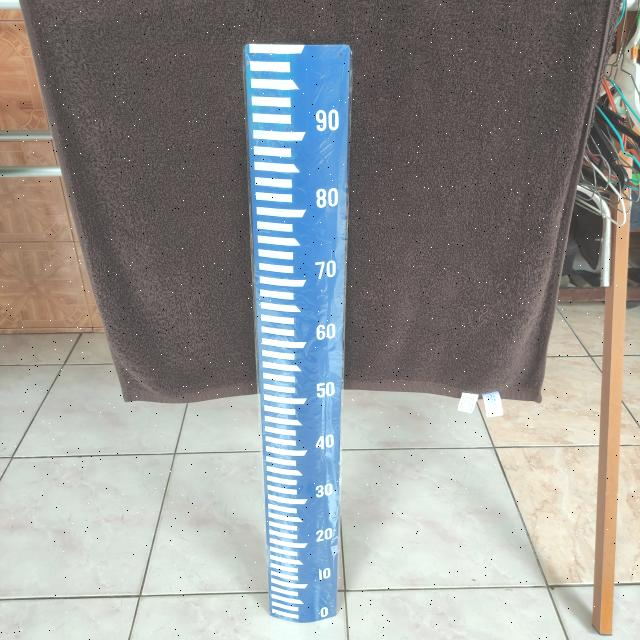10: (314, 564, 332, 583)
20: (315, 526, 334, 546)
30: (312, 479, 334, 500)
40: (315, 433, 336, 452)
50: (316, 378, 336, 398)
60: (313, 322, 337, 342)
70: (312, 255, 338, 282)
80: (312, 183, 341, 210)
90: (314, 105, 342, 136)
staff: (245, 44, 352, 622)
